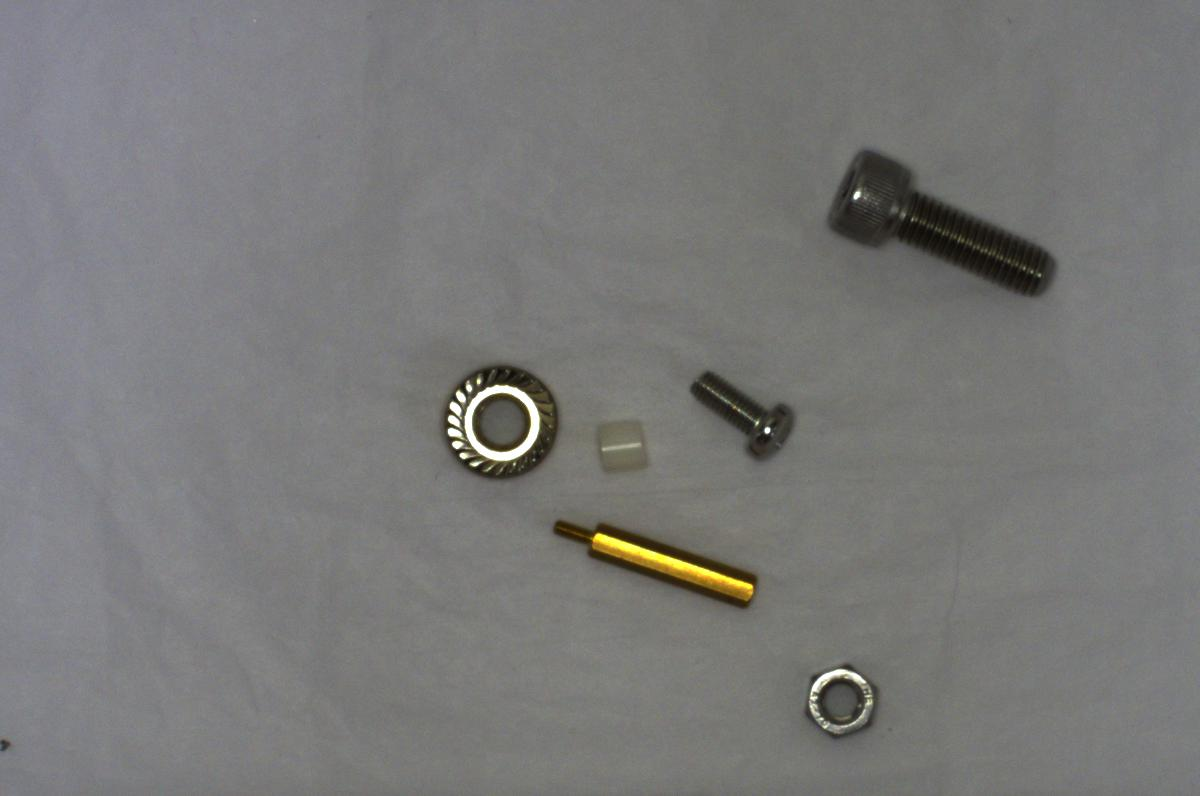Flange nut: (432, 362, 565, 485)
Hexagon nut: (799, 659, 881, 743)
Hexagon pillar: (540, 515, 764, 613)
Hexagon screw: (825, 139, 1061, 303)
Plastic cushion pillar: (582, 413, 652, 480)
Round head screw: (685, 367, 801, 461)
